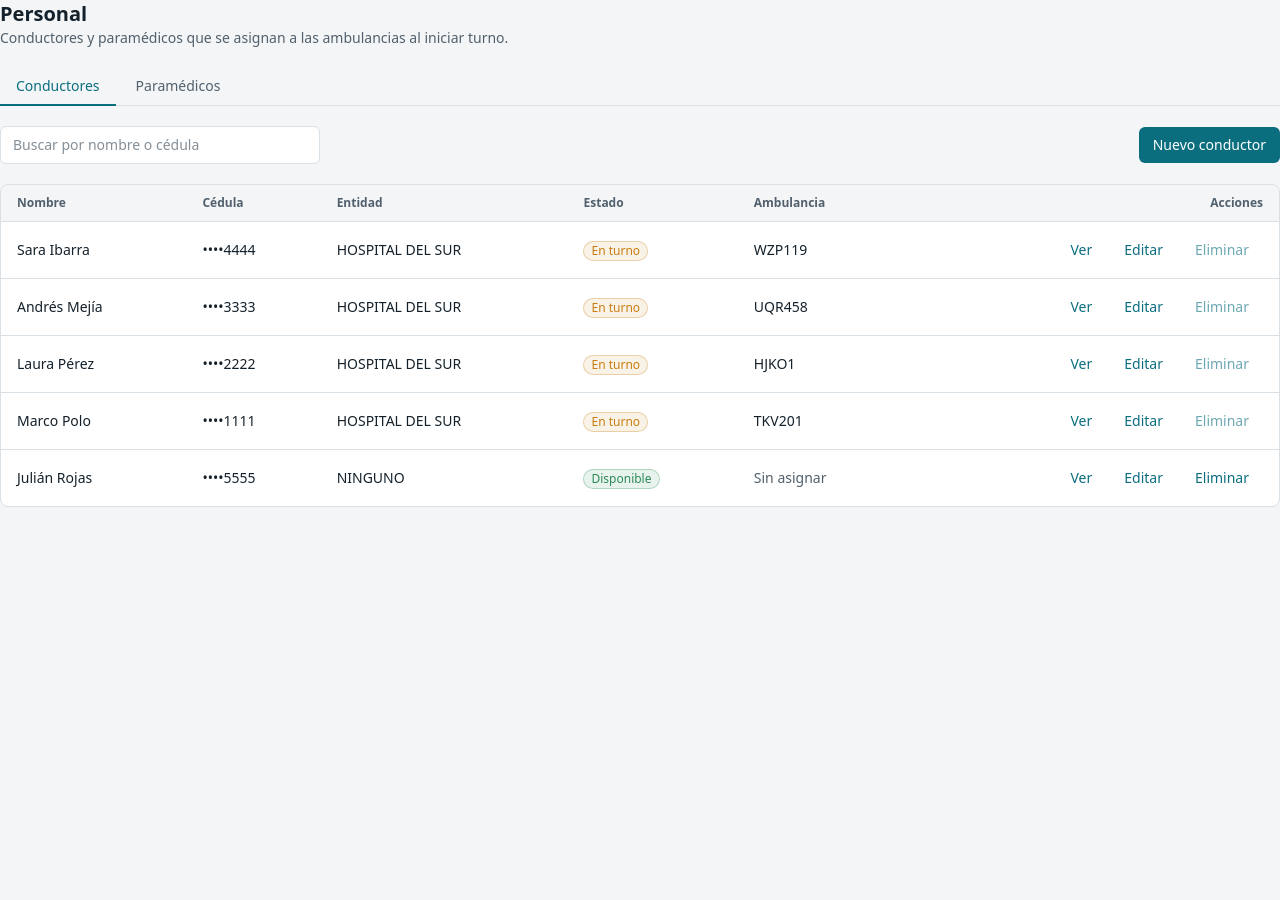
it: StaffPage · conductores › muestra el detalle con la cédula completa
Click the button with aria-label "Ver detalle de Marco Polo" at [1081, 421], box x1=1056 y1=403 x2=1106 y2=439
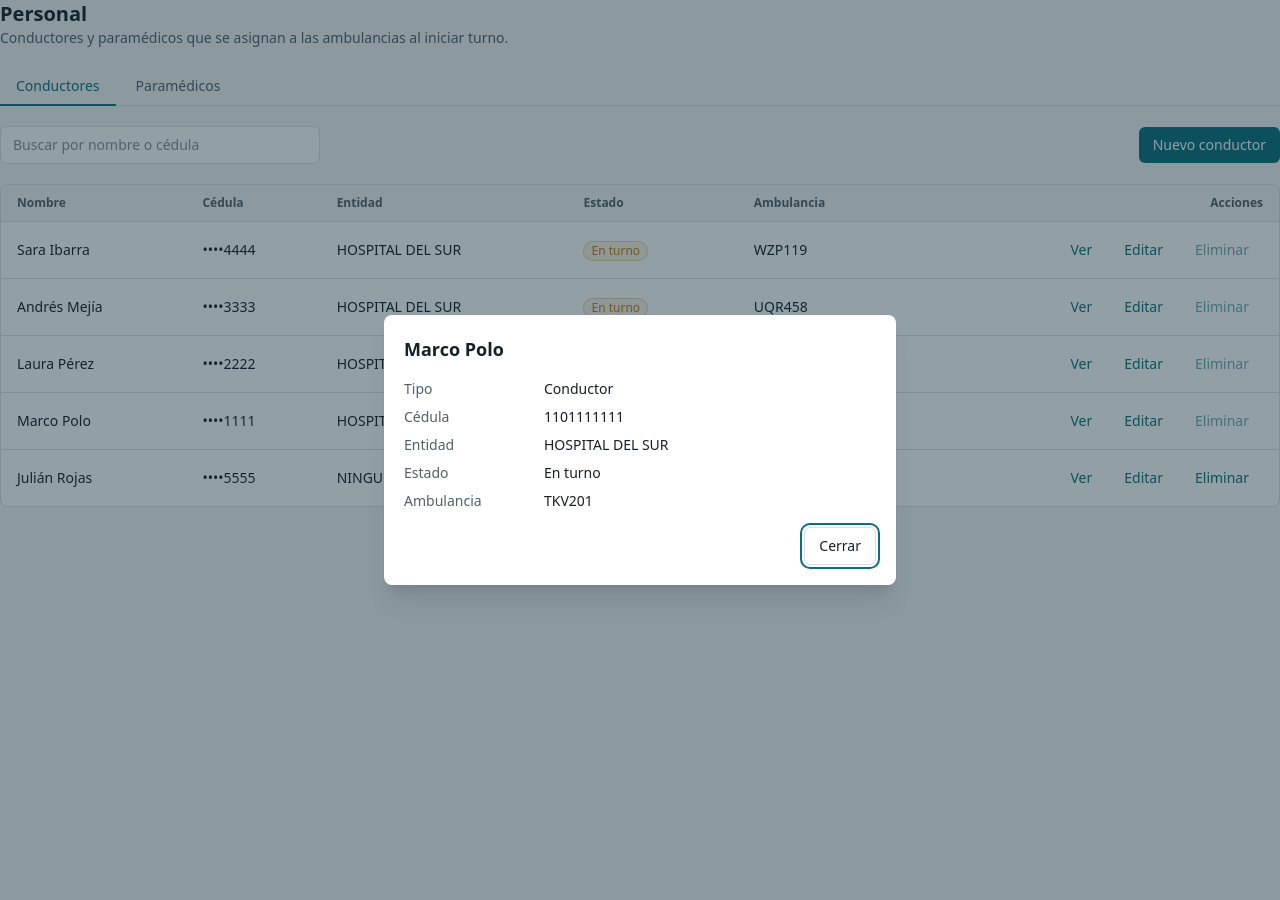
Result: the text "1101111111" is shown at x1=544 y1=407 x2=624 y2=426
Result: the text "En turno" is shown at x1=544 y1=463 x2=601 y2=482
